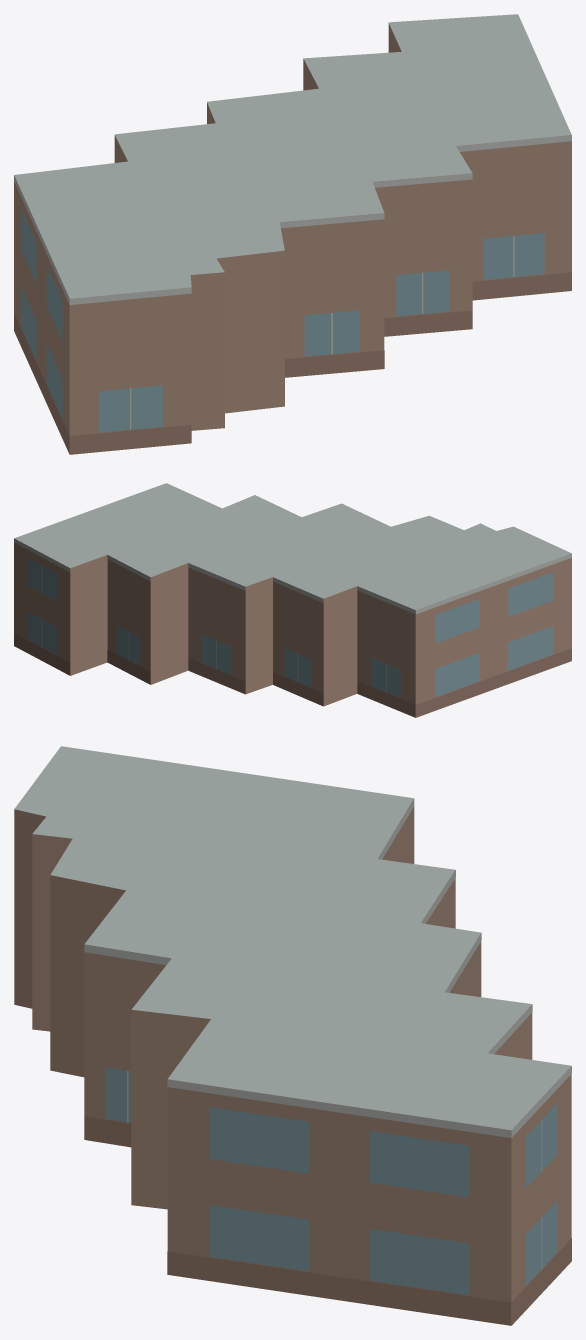
File: survey-upis-32919981.glb
The picture shows the model from 3 angles, top to bottom: view 1: azimuth 30°, elevation 25°; view 2: azimuth 150°, elevation 25°; view 3: azimuth 270°, elevation 25°; orthographic projection. The views are drawn at different scales.
Parts seen in each view (by area): view 1: survey-upis-32919981.tmp; view 2: survey-upis-32919981.tmp; view 3: survey-upis-32919981.tmp.
Part boxes in pixels (x1=…): survey-upis-32919981.tmp: x1=14, y1=14, x2=571, y2=454; survey-upis-32919981.tmp: x1=14, y1=483, x2=571, y2=717; survey-upis-32919981.tmp: x1=14, y1=746, x2=571, y2=1325.
Size of the model in its own units: 25.72 by 6.1 by 15.78.
